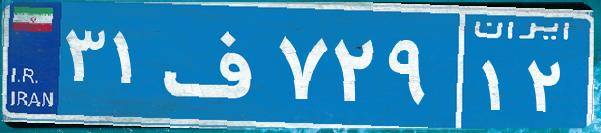1: (475, 38, 525, 113), (110, 28, 158, 105)
2: (330, 28, 385, 110), (525, 38, 570, 115)
3: (57, 26, 110, 107)
7: (273, 28, 330, 110)
9: (385, 28, 445, 110)
ف: (158, 15, 273, 115)
